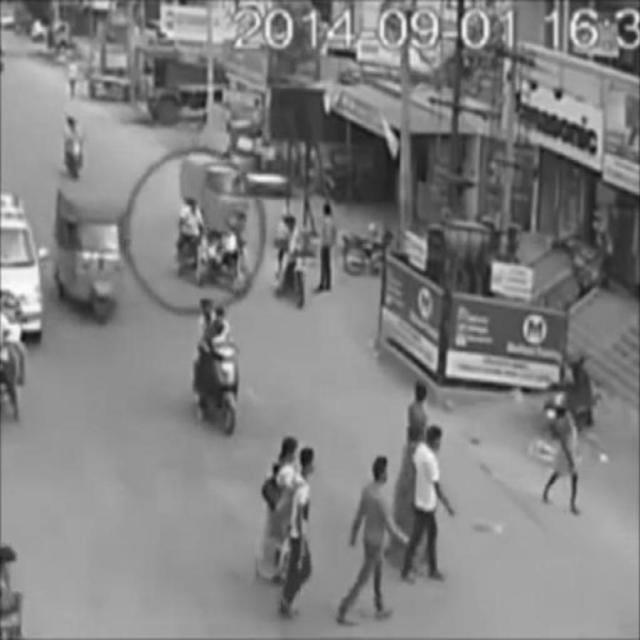accident: (174, 197, 252, 295)
person: (347, 456, 394, 623), (410, 421, 451, 586), (281, 447, 313, 611)
vehicle: (57, 188, 127, 324), (181, 152, 257, 266), (195, 296, 242, 442), (276, 219, 312, 310)
